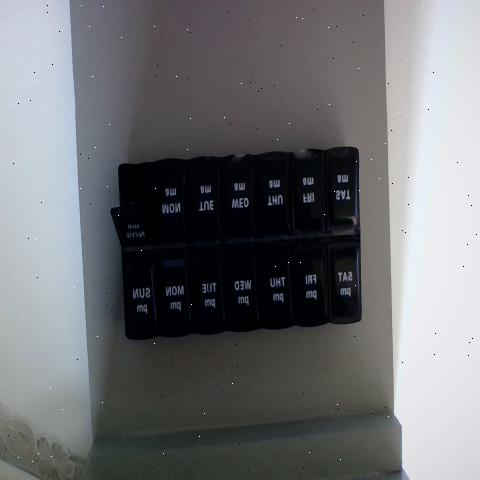FRI-am: (294, 152, 322, 229)
FRI-pm: (294, 246, 325, 326)
MON-am: (156, 164, 190, 245)
MON-pm: (158, 247, 194, 330)
Open: (109, 167, 156, 241)
PillBox: (101, 136, 376, 369)
SAT-am: (324, 146, 359, 228)
SAT-pm: (326, 240, 360, 323)
SUN-pm: (124, 250, 156, 336)
THU-am: (257, 157, 290, 239)
THU-pm: (262, 244, 296, 331)
TUE-am: (194, 161, 226, 239)
TUE-pm: (195, 253, 226, 334)
WED-am: (225, 156, 256, 238)
WED-pm: (228, 247, 264, 325)
